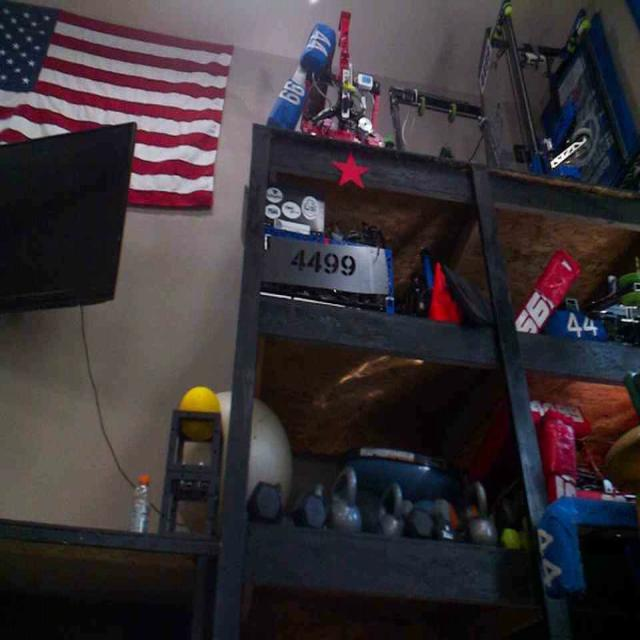star_red: (331, 148, 368, 190)
